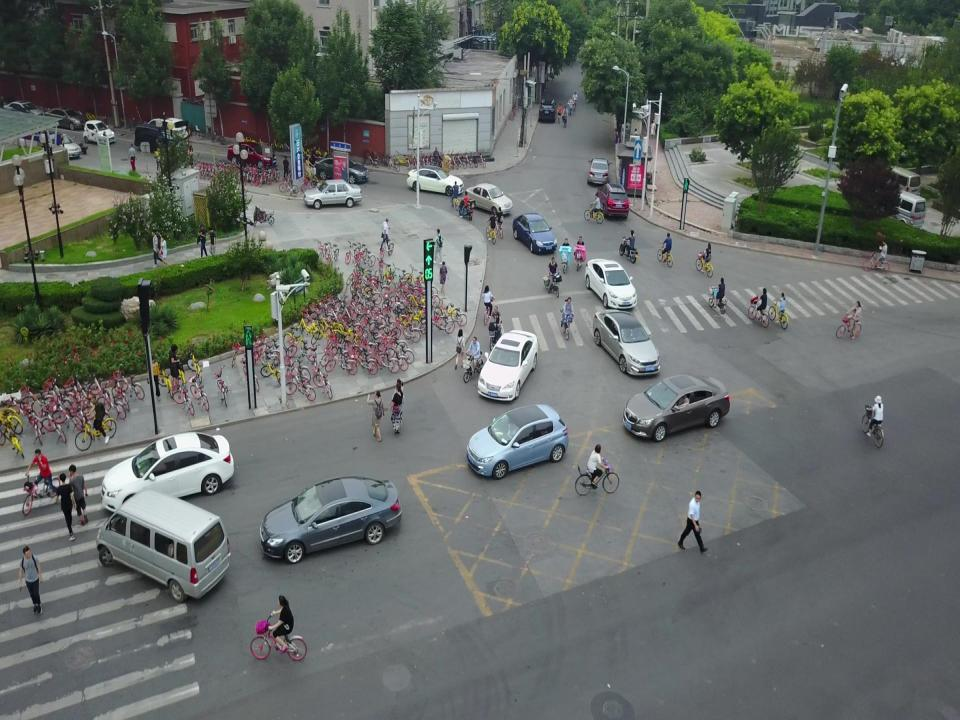car: (259, 477, 403, 564), (100, 431, 234, 512), (466, 404, 568, 480), (623, 373, 730, 442), (592, 309, 660, 375), (478, 330, 538, 402), (584, 258, 638, 309), (512, 212, 558, 255), (406, 165, 464, 196), (304, 179, 362, 209), (315, 156, 369, 184), (465, 183, 513, 214), (145, 116, 190, 146), (227, 143, 276, 169), (595, 183, 629, 220), (45, 132, 82, 160), (44, 106, 86, 130), (83, 120, 115, 146), (8, 99, 44, 120), (587, 157, 612, 185), (539, 99, 557, 123)
van: (96, 488, 230, 602), (873, 183, 926, 229), (133, 123, 188, 154), (878, 160, 921, 197)
